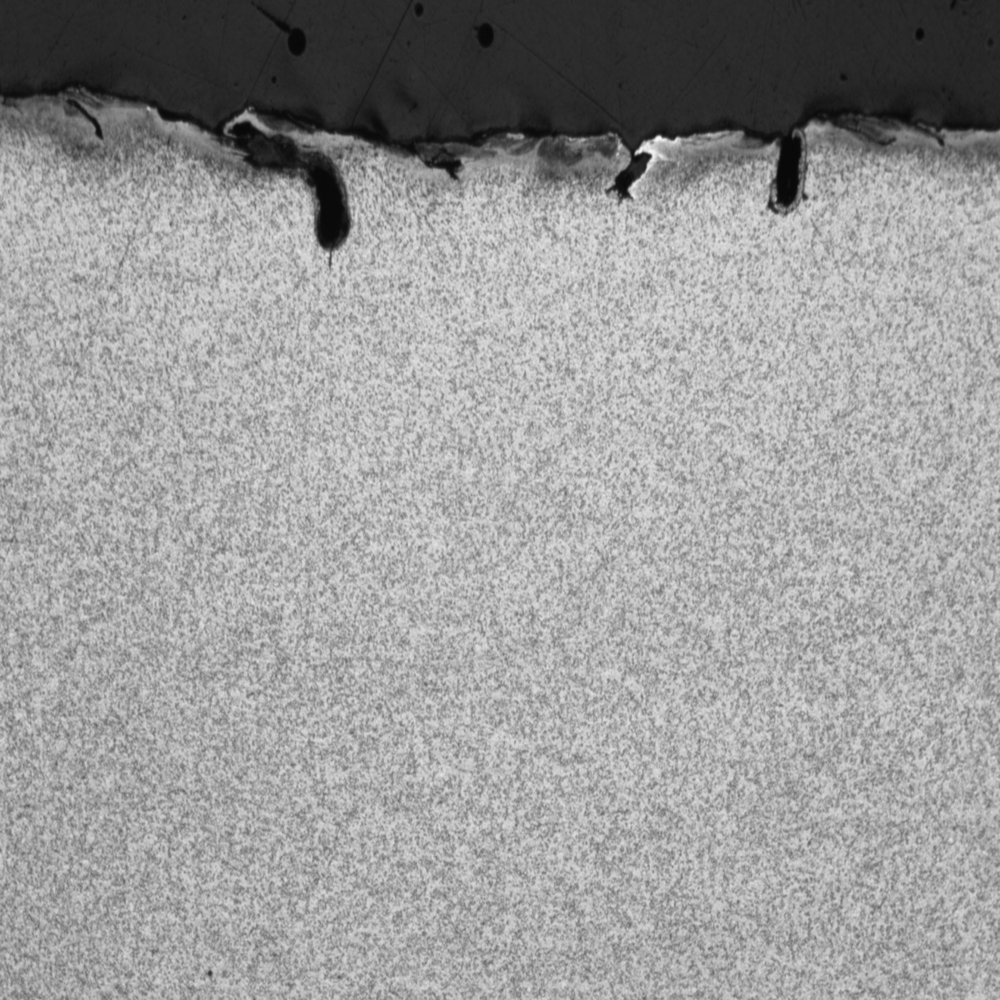crack: (193, 116, 376, 260), (748, 110, 826, 219), (586, 131, 663, 198)
